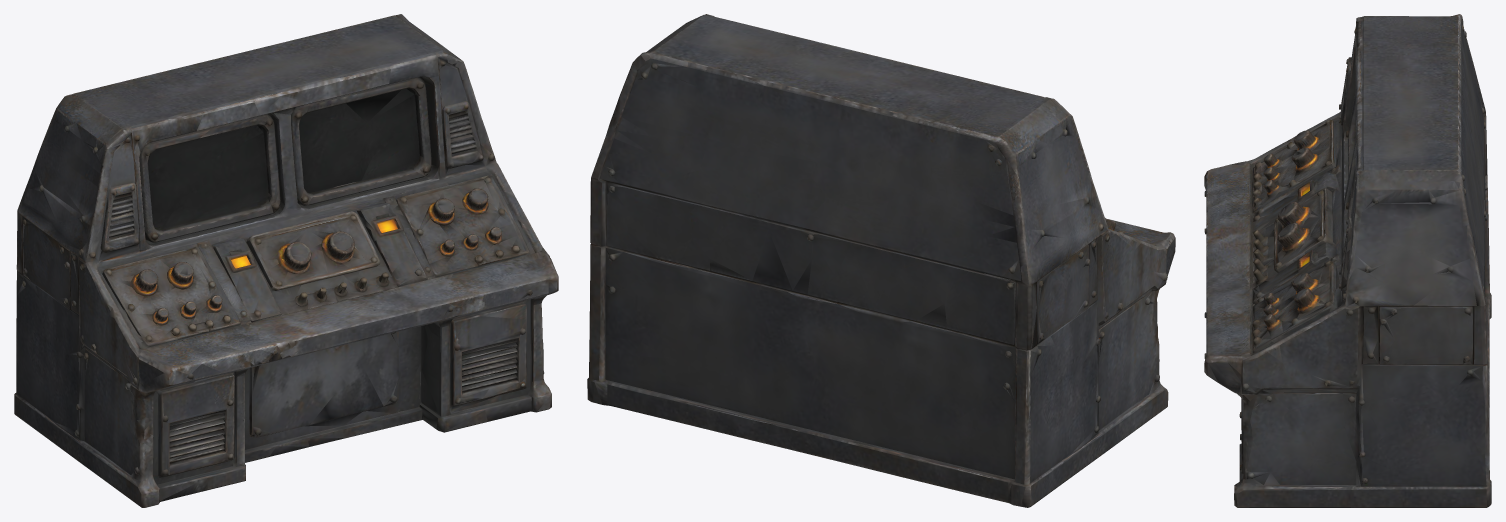
File: SignalConsole.glb
The picture shows the model from 3 angles, left to right: view 1: azimuth 30°, elevation 25°; view 2: azimuth 150°, elevation 25°; view 3: azimuth 270°, elevation 25°; orthographic projection. The views are drawn at different scales.
Parts seen in each view (by area): view 1: tripo_node_34da6093-f9b7-44a7-b04b-d13dabc68c77; view 2: tripo_node_34da6093-f9b7-44a7-b04b-d13dabc68c77; view 3: tripo_node_34da6093-f9b7-44a7-b04b-d13dabc68c77.
Boxes of the visible parts, x1,y1,x2,y2 form: tripo_node_34da6093-f9b7-44a7-b04b-d13dabc68c77: [14, 14, 558, 507]; tripo_node_34da6093-f9b7-44a7-b04b-d13dabc68c77: [587, 14, 1175, 507]; tripo_node_34da6093-f9b7-44a7-b04b-d13dabc68c77: [1204, 14, 1491, 507].
Bounding box in the file's own units: 0.9796 × 0.7225 × 0.5941.
Materials: 1 (1 with a texture image).
